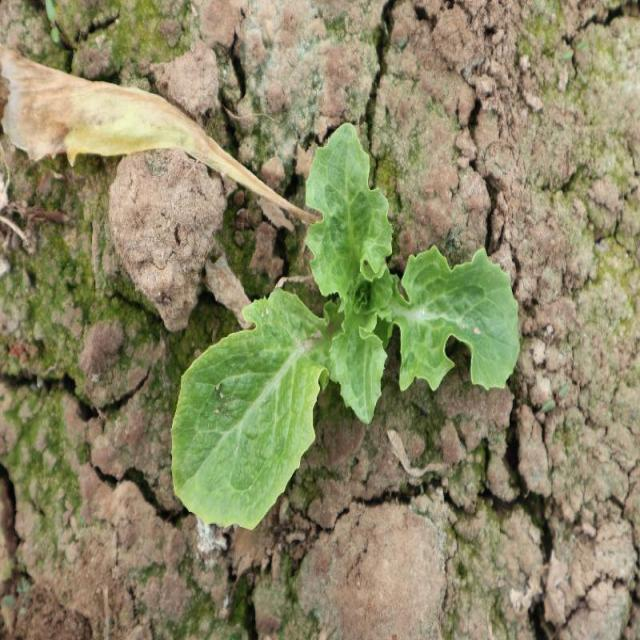crop: (170, 122, 522, 528)
